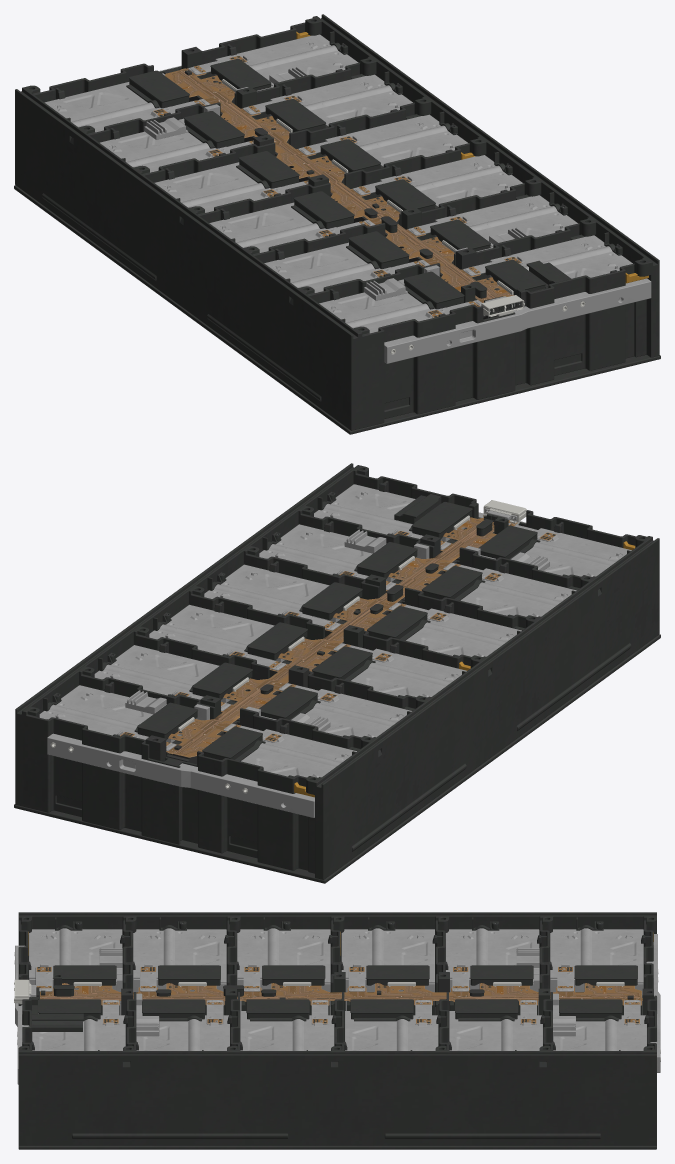
Rendered from battery-c05aeb72629c.glb.
The picture shows the model from 3 angles, top to bottom: view 1: azimuth 30°, elevation 25°; view 2: azimuth 150°, elevation 25°; view 3: azimuth 270°, elevation 25°; orthographic projection. The views are drawn at different scales.
Visible parts, largest first — view 1: battery_01_mesh_00; view 2: battery_01_mesh_00; view 3: battery_01_mesh_00.
Part boxes in pixels (x1,y1,x2,y2): battery_01_mesh_00: [14, 14, 660, 434]; battery_01_mesh_00: [14, 463, 660, 883]; battery_01_mesh_00: [14, 912, 660, 1149].
Size of the model in its own units: 0.5136 by 0.1565 by 0.9735.
Materials: 6 (6 with a texture image).
